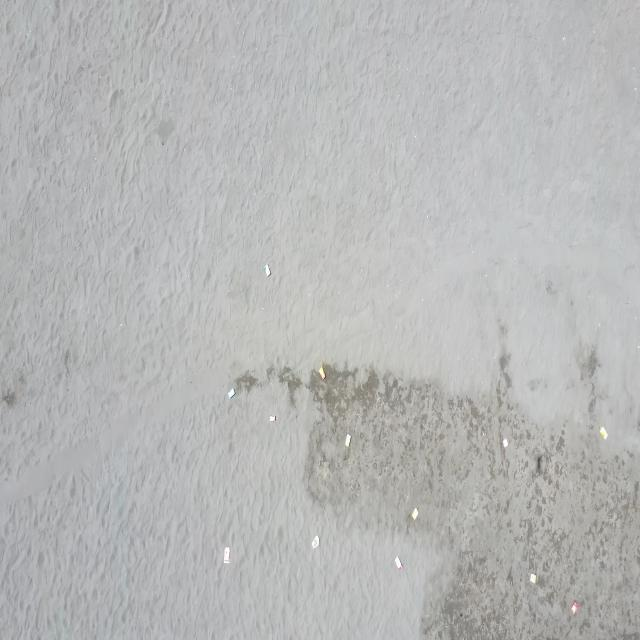retort-pouch: (222, 544, 231, 566), (263, 261, 272, 279), (394, 555, 403, 573), (311, 534, 321, 550), (599, 424, 608, 441), (412, 505, 420, 522), (529, 570, 537, 586), (319, 364, 326, 382), (501, 436, 510, 450), (344, 433, 352, 448), (570, 600, 578, 615), (227, 387, 236, 400), (269, 413, 277, 423)
